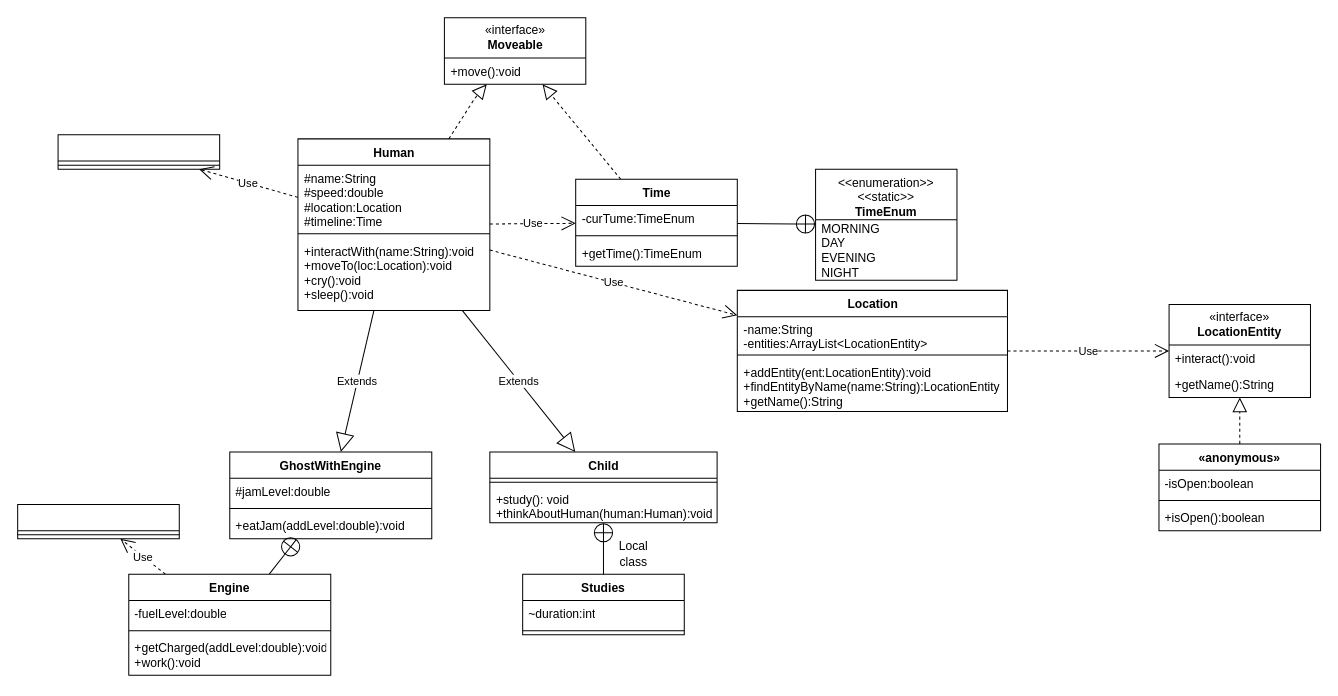
This 1338x696 diagram has some shape labels left out. The shapes that lost their labels are listed below. From the top down, each one's centre as x and y in pixels, then its label:
At [138,151]: "TooDarkToWalkException".
At [98,521]: "FuelError".
